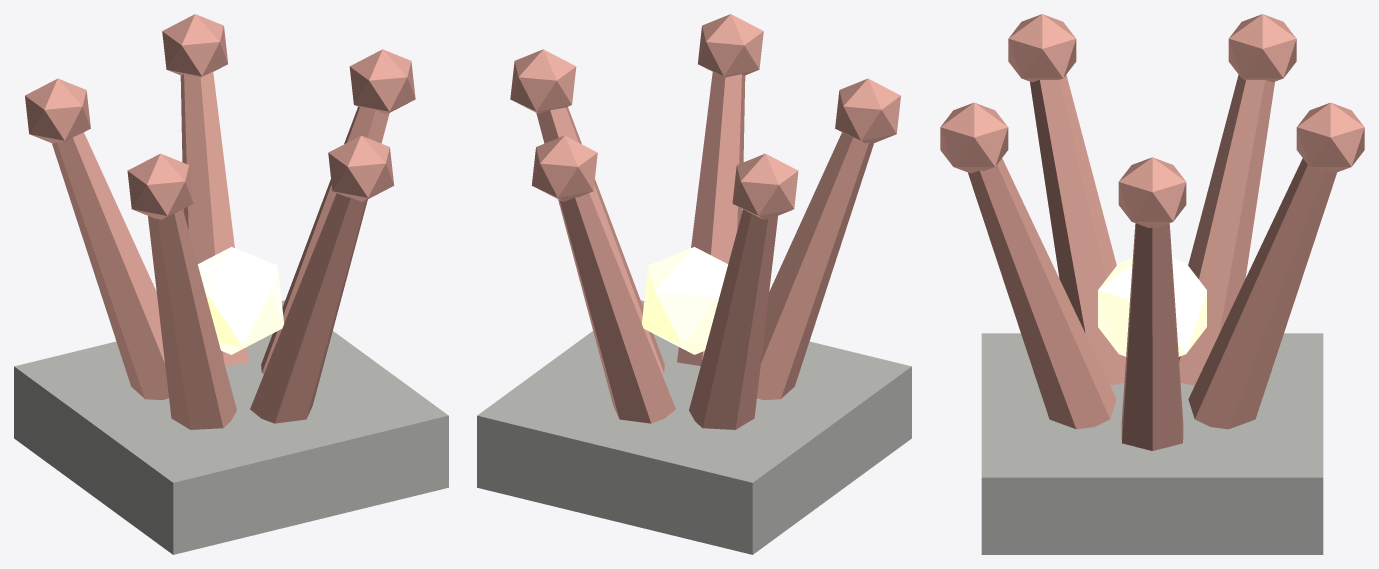
Rendered from 18-Casas_decor_farol_coral.glb.
3 views of the same model, side by side, from view 1: azimuth 30°, elevation 25°; view 2: azimuth 150°, elevation 25°; view 3: azimuth 270°, elevation 25° (orthographic). The views are drawn at different scales.
Parts seen in each view (by area): view 1: SM_FarolCor_Base, SM_FarolCor_Rama.002, SM_FarolCor_Rama.003, SM_FarolCor_Rama.004, SM_FarolCor_Rama.001, SM_FarolCor_Luz, SM_FarolCor_Punta.003, SM_FarolCor_Punta.004, SM_FarolCor_Punta.002, SM_FarolCor_Punta, SM_FarolCor_Punta.001, SM_FarolCor_Rama; view 2: SM_FarolCor_Base, SM_FarolCor_Rama.003, SM_FarolCor_Rama.002, SM_FarolCor_Rama.001, SM_FarolCor_Rama.004, SM_FarolCor_Luz, SM_FarolCor_Punta.002, SM_FarolCor_Punta.001, SM_FarolCor_Punta.003, SM_FarolCor_Punta, SM_FarolCor_Punta.004, SM_FarolCor_Rama; view 3: SM_FarolCor_Base, SM_FarolCor_Rama.001, SM_FarolCor_Rama.004, SM_FarolCor_Rama.002, SM_FarolCor_Rama.003, SM_FarolCor_Rama, SM_FarolCor_Luz, SM_FarolCor_Punta, SM_FarolCor_Punta.001, SM_FarolCor_Punta.004, SM_FarolCor_Punta.002, SM_FarolCor_Punta.003.
Boxes of the visible parts, <box> form: SM_FarolCor_Base: <box>14,300,448,554</box>; SM_FarolCor_Rama.002: <box>52,132,168,399</box>; SM_FarolCor_Rama.003: <box>148,209,236,429</box>; SM_FarolCor_Rama.004: <box>250,193,367,423</box>; SM_FarolCor_Rama.001: <box>180,72,248,365</box>; SM_FarolCor_Luz: <box>198,247,283,354</box>; SM_FarolCor_Punta.003: <box>127,153,193,219</box>; SM_FarolCor_Punta.004: <box>328,135,394,201</box>; SM_FarolCor_Punta.002: <box>25,78,90,143</box>; SM_FarolCor_Punta: <box>349,49,415,113</box>; SM_FarolCor_Punta.001: <box>162,14,227,77</box>; SM_FarolCor_Rama: <box>261,107,389,373</box>; SM_FarolCor_Base: <box>477,300,911,554</box>; SM_FarolCor_Rama.003: <box>757,132,873,399</box>; SM_FarolCor_Rama.002: <box>689,209,777,429</box>; SM_FarolCor_Rama.001: <box>558,193,675,423</box>; SM_FarolCor_Rama.004: <box>677,72,745,365</box>; SM_FarolCor_Luz: <box>642,247,727,354</box>; SM_FarolCor_Punta.002: <box>732,153,798,219</box>; SM_FarolCor_Punta.001: <box>531,135,597,201</box>; SM_FarolCor_Punta.003: <box>835,78,900,143</box>; SM_FarolCor_Punta: <box>510,49,576,113</box>; SM_FarolCor_Punta.004: <box>698,14,763,77</box>; SM_FarolCor_Rama: <box>536,107,664,373</box>; SM_FarolCor_Base: <box>981,333,1323,554</box>; SM_FarolCor_Rama.001: <box>1188,158,1336,429</box>; SM_FarolCor_Rama.004: <box>968,158,1116,429</box>; SM_FarolCor_Rama.002: <box>1179,74,1274,385</box>; SM_FarolCor_Rama.003: <box>1030,74,1125,385</box>; SM_FarolCor_Rama: <box>1121,223,1183,450</box>; SM_FarolCor_Luz: <box>1098,258,1206,356</box>; SM_FarolCor_Punta: <box>1118,157,1186,227</box>; SM_FarolCor_Punta.001: <box>1296,102,1364,173</box>; SM_FarolCor_Punta.004: <box>940,102,1008,173</box>; SM_FarolCor_Punta.002: <box>1228,14,1296,82</box>; SM_FarolCor_Punta.003: <box>1008,14,1076,82</box>.
Bounding box in the file's own units: 0.2882 × 0.3137 × 0.298.
